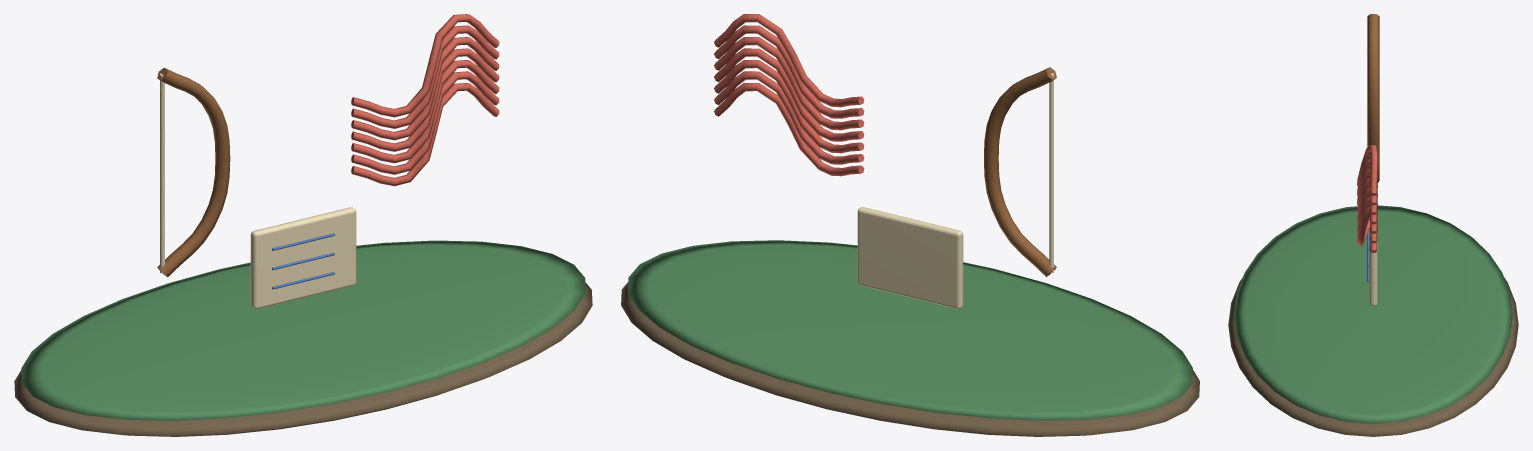
File: complete-first-flat-item-counter.glb
3 renders of one model, left to right at view 1: azimuth 30°, elevation 25°; view 2: azimuth 150°, elevation 25°; view 3: azimuth 270°, elevation 25°, orthographic. The views are drawn at different scales.
Parts seen in each view (by area): view 1: complete-first-flat-item-counter_surface_01, complete-first-flat-item-counter_surface_04, complete-first-flat-item-counter_surface_00, complete-first-flat-item-counter_surface_03, complete-first-flat-item-counter_surface_02, complete-first-flat-item-counter_surface_05; view 2: complete-first-flat-item-counter_surface_01, complete-first-flat-item-counter_surface_04, complete-first-flat-item-counter_surface_00, complete-first-flat-item-counter_surface_03, complete-first-flat-item-counter_surface_02; view 3: complete-first-flat-item-counter_surface_01, complete-first-flat-item-counter_surface_00, complete-first-flat-item-counter_surface_04, complete-first-flat-item-counter_surface_02, complete-first-flat-item-counter_surface_03.
Part boxes in pixels (left/top/right/bottom): complete-first-flat-item-counter_surface_01: left=21, top=240, right=585, bottom=420; complete-first-flat-item-counter_surface_04: left=351, top=14, right=499, bottom=186; complete-first-flat-item-counter_surface_00: left=14, top=282, right=592, bottom=436; complete-first-flat-item-counter_surface_03: left=160, top=73, right=356, bottom=309; complete-first-flat-item-counter_surface_02: left=157, top=67, right=230, bottom=277; complete-first-flat-item-counter_surface_05: left=272, top=233, right=334, bottom=289; complete-first-flat-item-counter_surface_01: left=628, top=240, right=1192, bottom=420; complete-first-flat-item-counter_surface_04: left=714, top=14, right=864, bottom=176; complete-first-flat-item-counter_surface_00: left=621, top=282, right=1199, bottom=436; complete-first-flat-item-counter_surface_03: left=857, top=73, right=1053, bottom=309; complete-first-flat-item-counter_surface_02: left=984, top=67, right=1056, bottom=276; complete-first-flat-item-counter_surface_01: left=1234, top=205, right=1512, bottom=423; complete-first-flat-item-counter_surface_00: left=1228, top=278, right=1518, bottom=436; complete-first-flat-item-counter_surface_04: left=1357, top=145, right=1377, bottom=252; complete-first-flat-item-counter_surface_02: left=1367, top=14, right=1379, bottom=183; complete-first-flat-item-counter_surface_03: left=1369, top=229, right=1377, bottom=306.
Bounding box in the file's own units: 4.56 × 2.56 × 2.5.
